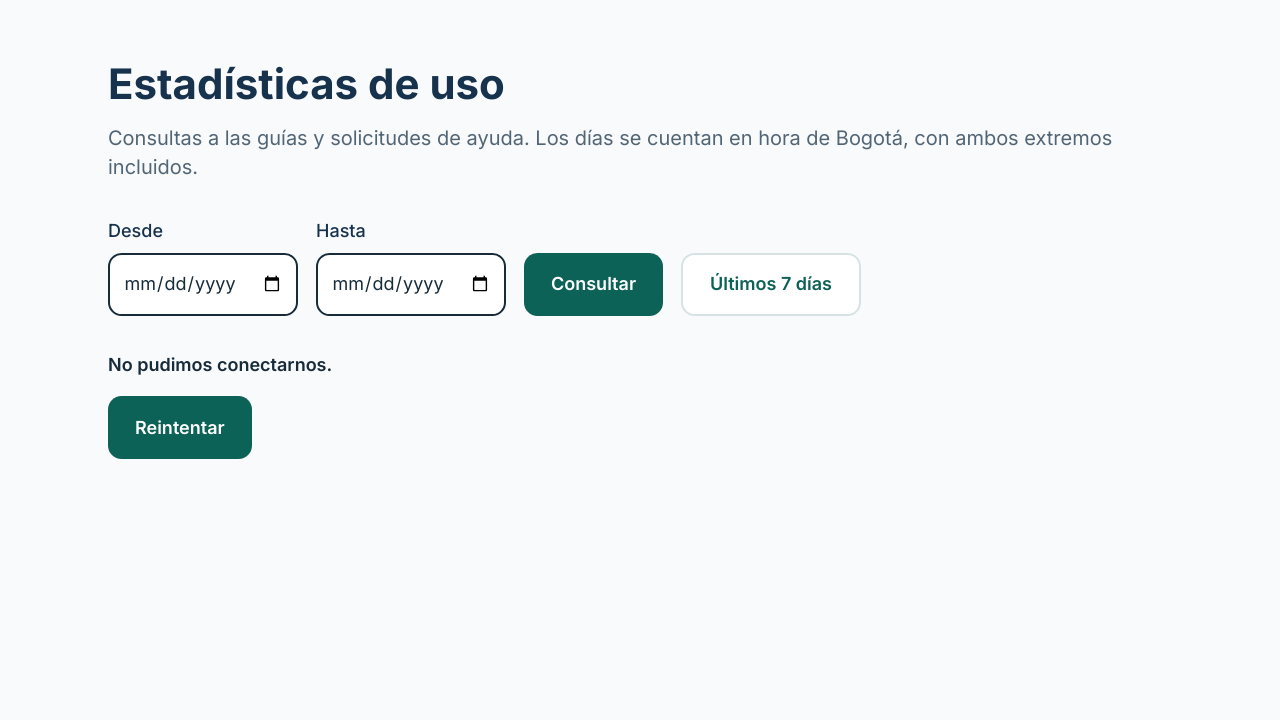
EstadisticasPage (HU-31 · C-11) › error muestra alerta con Reintentar, sin ceros inventados, y se recupera
This screenshot has width=1280, height=720.
expect the message reads "No pudimos conectarnos.": met, box [108,354,332,375]
expect the text "0" is not shown: met
Click the button "Reintentar" at coordinates (180, 428), box [108,396,252,459]
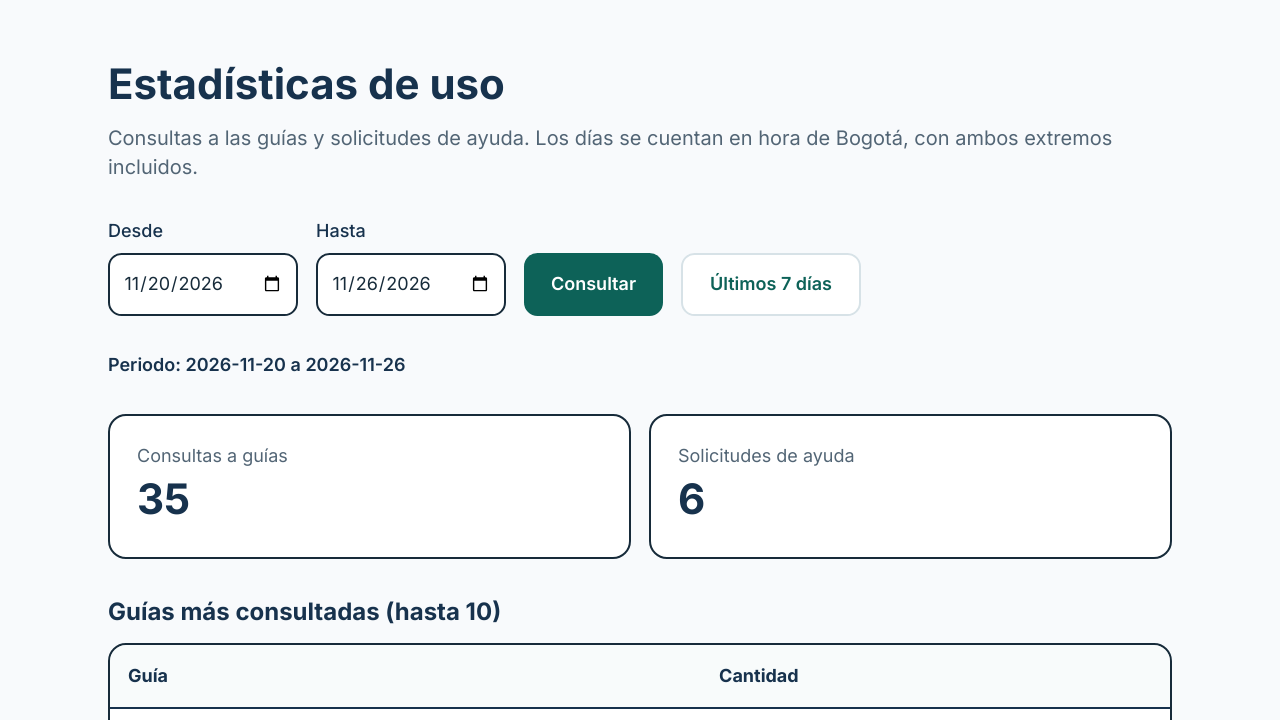
expect the text "Periodo: 2026-11-20 a 2026-11-26" is shown: met, box [108,354,406,375]
